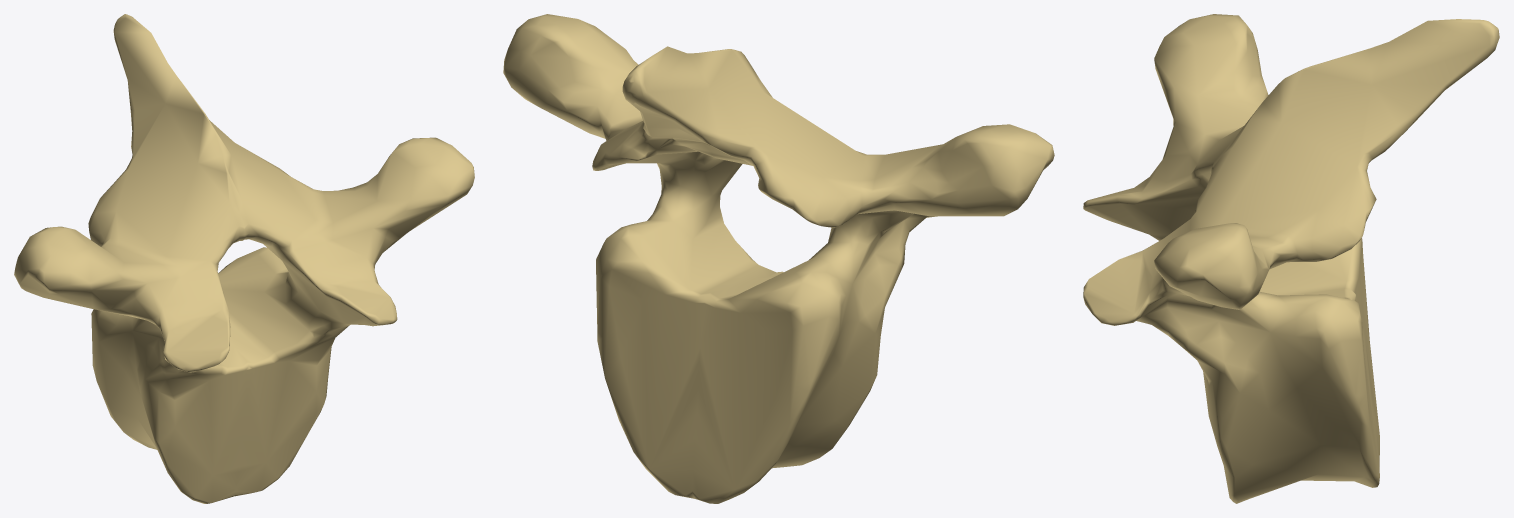
3 renders of one model, left to right at view 1: azimuth 30°, elevation 25°; view 2: azimuth 150°, elevation 25°; view 3: azimuth 270°, elevation 25°, orthographic. The views are drawn at different scales.
Visible parts, largest first — view 1: 第五胸椎; view 2: 第五胸椎; view 3: 第五胸椎.
Boxes of the visible parts, x1,y1,x2,y2 form: 第五胸椎: [14, 14, 474, 503]; 第五胸椎: [503, 14, 1054, 503]; 第五胸椎: [1083, 14, 1499, 503].
Size of the model in its own units: 0.1111 by 0.0981 by 0.0786.
